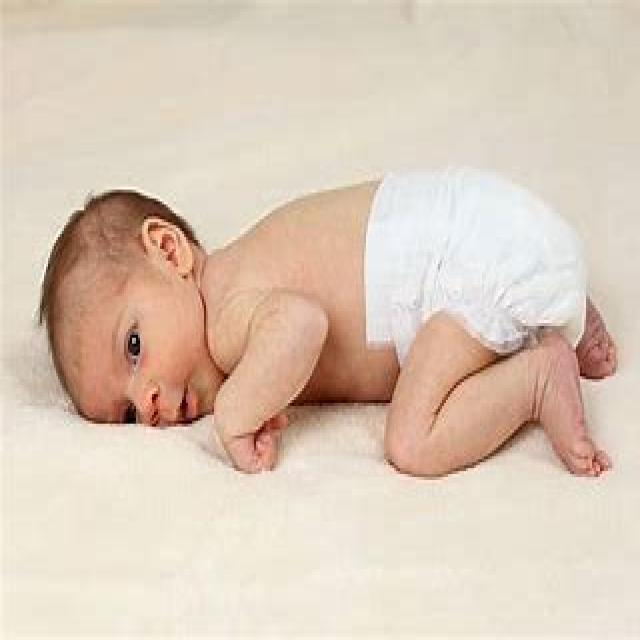lie: (38, 162, 616, 454)
